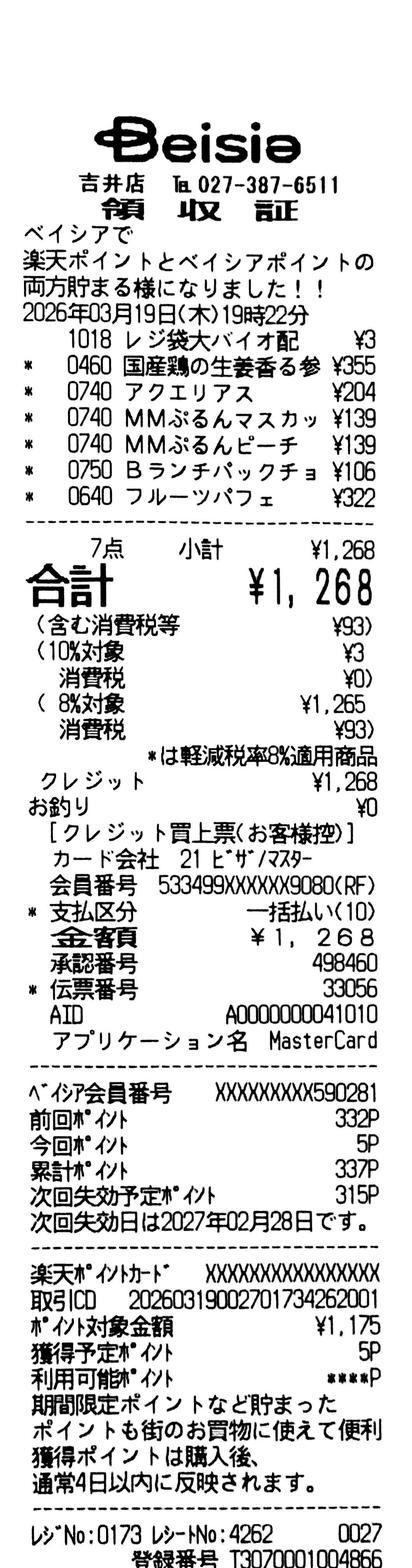Date: (22, 302, 176, 325)
Pay: (25, 562, 373, 608)
Shopname: (94, 115, 301, 164)
Telnum: (198, 175, 338, 195)
